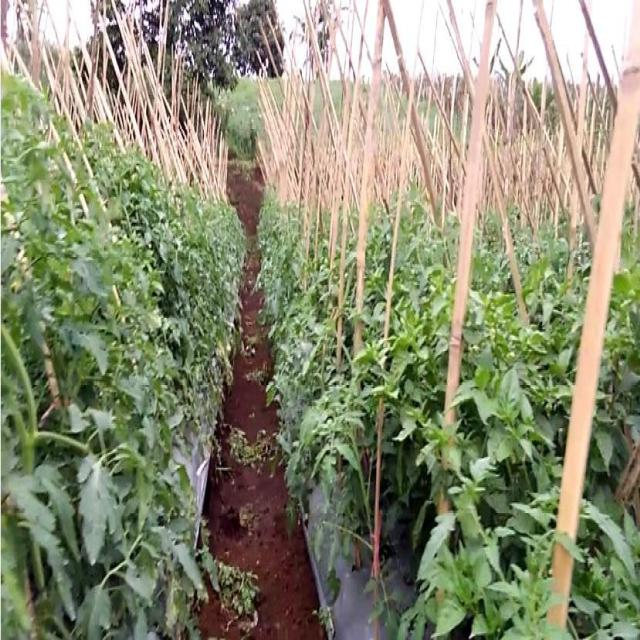row: (173, 235, 341, 640)
